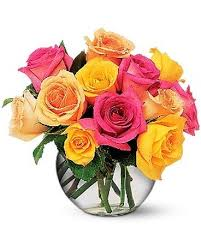lale: (86, 88, 149, 156), (31, 70, 93, 138), (18, 43, 83, 96), (133, 121, 187, 182), (108, 48, 164, 103), (2, 89, 52, 150), (82, 20, 138, 66), (75, 55, 127, 99), (62, 124, 100, 174), (147, 89, 189, 129)
